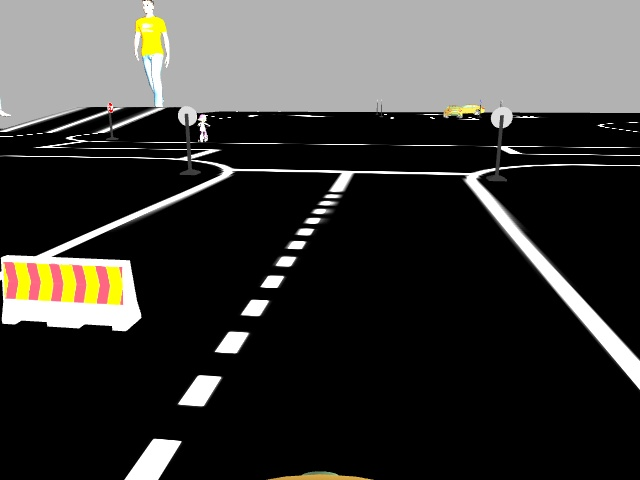ClosedRoadStand: (1, 258, 141, 324)
